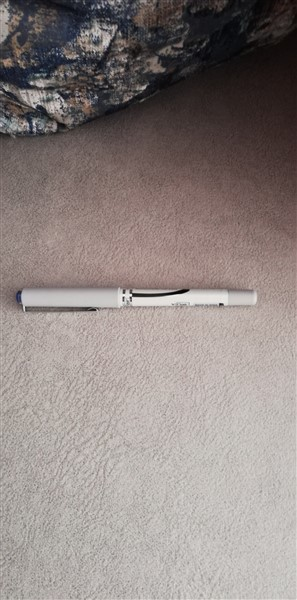pilot kalem: (10, 280, 268, 322)
